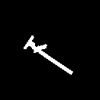double_crochet: (24, 36, 72, 73)
